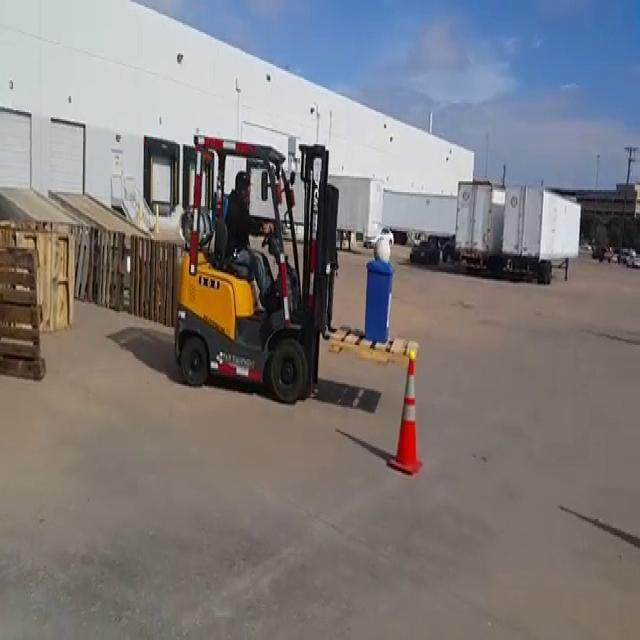forklift: (176, 130, 339, 388)
